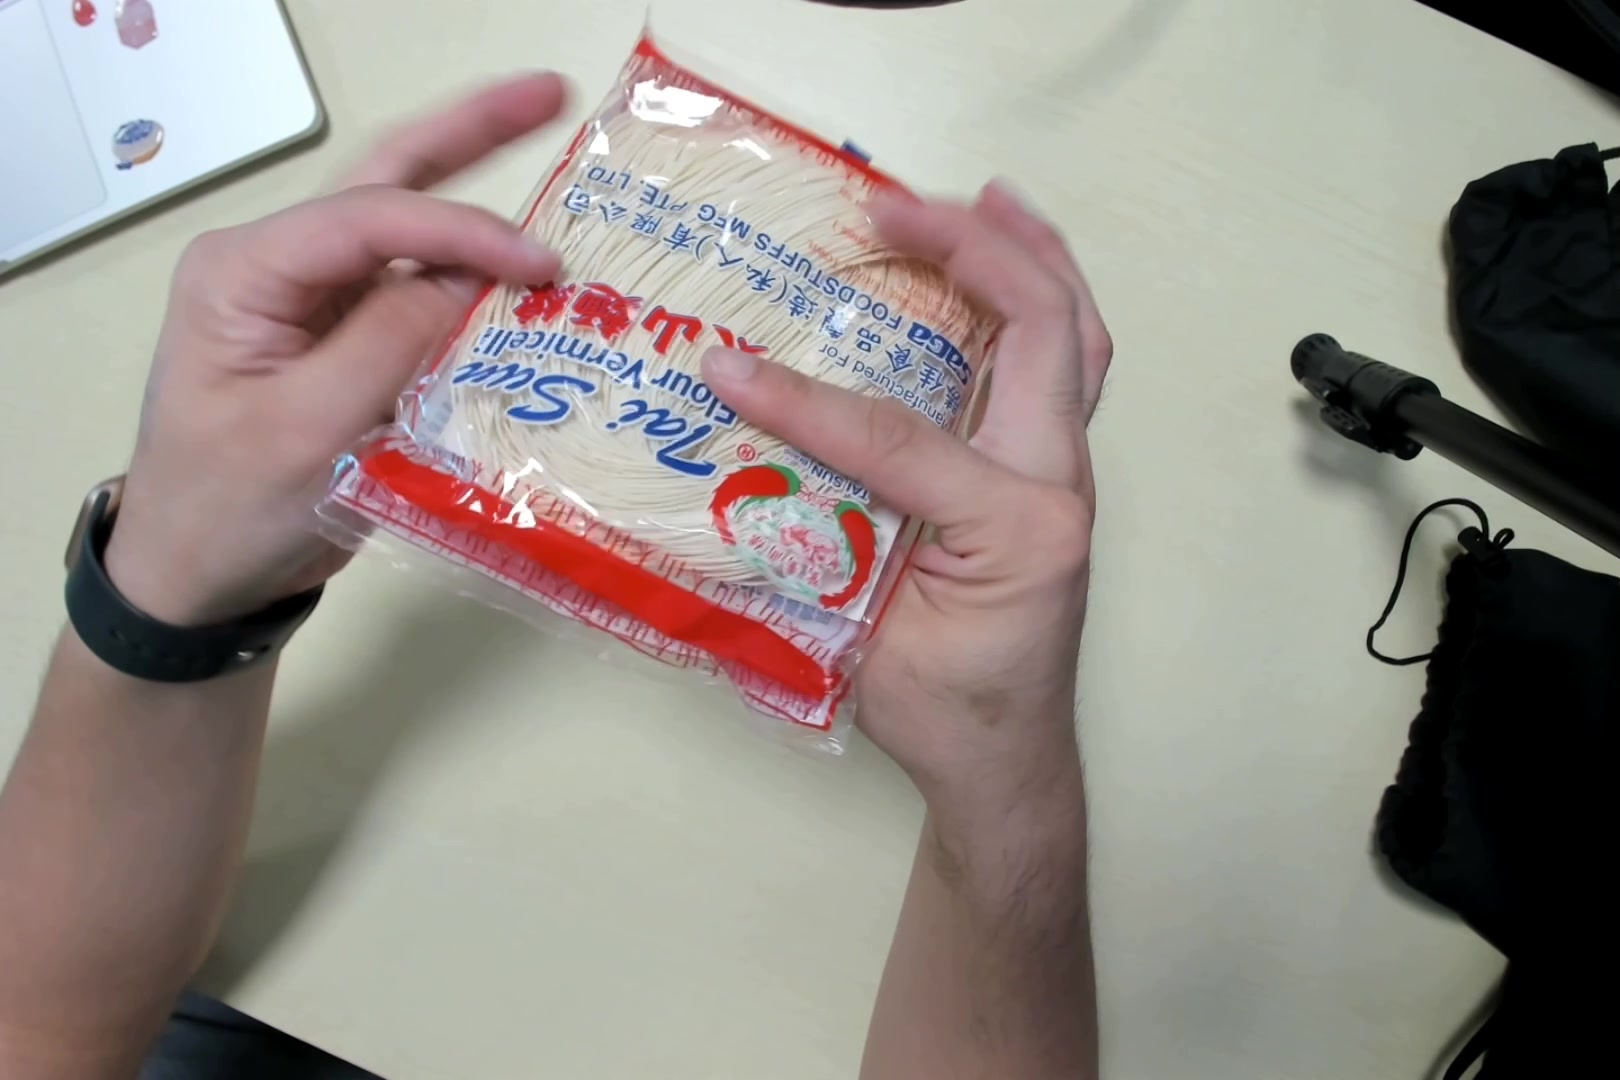BeeHoonVermicelli_100-199g_Halal_NonHealthy: (358, 25, 1015, 730)
